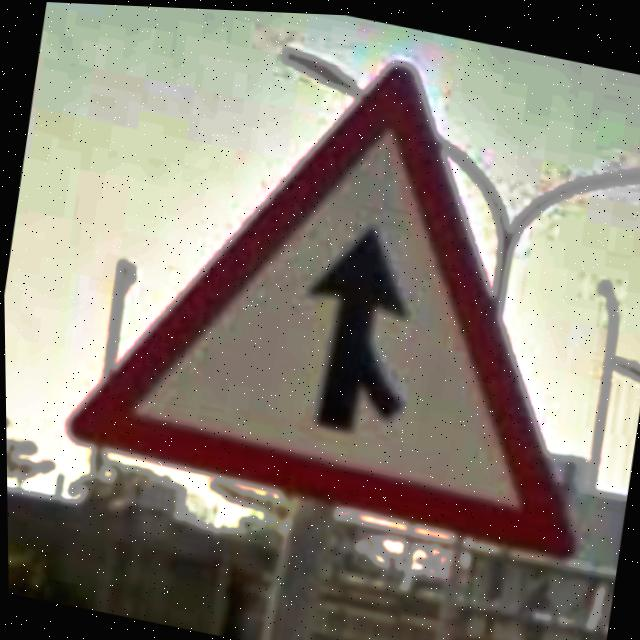rightmerge: (67, 60, 575, 556)
